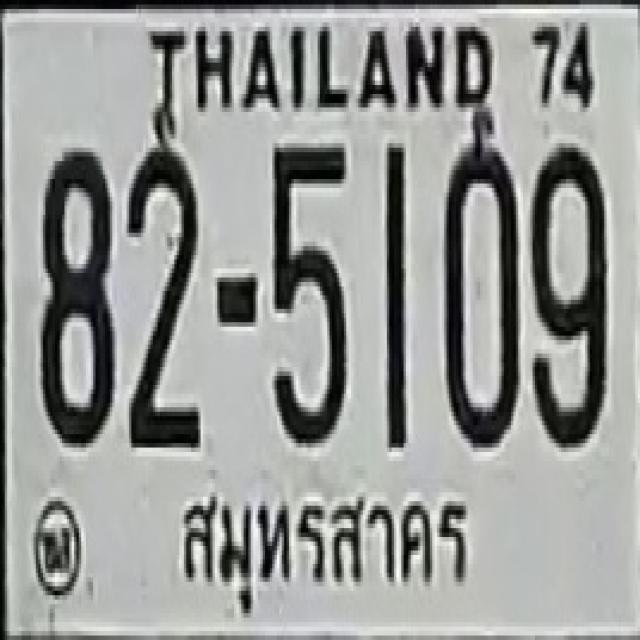0: (442, 134, 518, 448)
1: (384, 143, 406, 448)
2: (125, 139, 197, 443)
5: (271, 141, 345, 445)
8: (38, 148, 112, 443)
9: (530, 143, 607, 448)
SKN: (174, 474, 490, 624)
